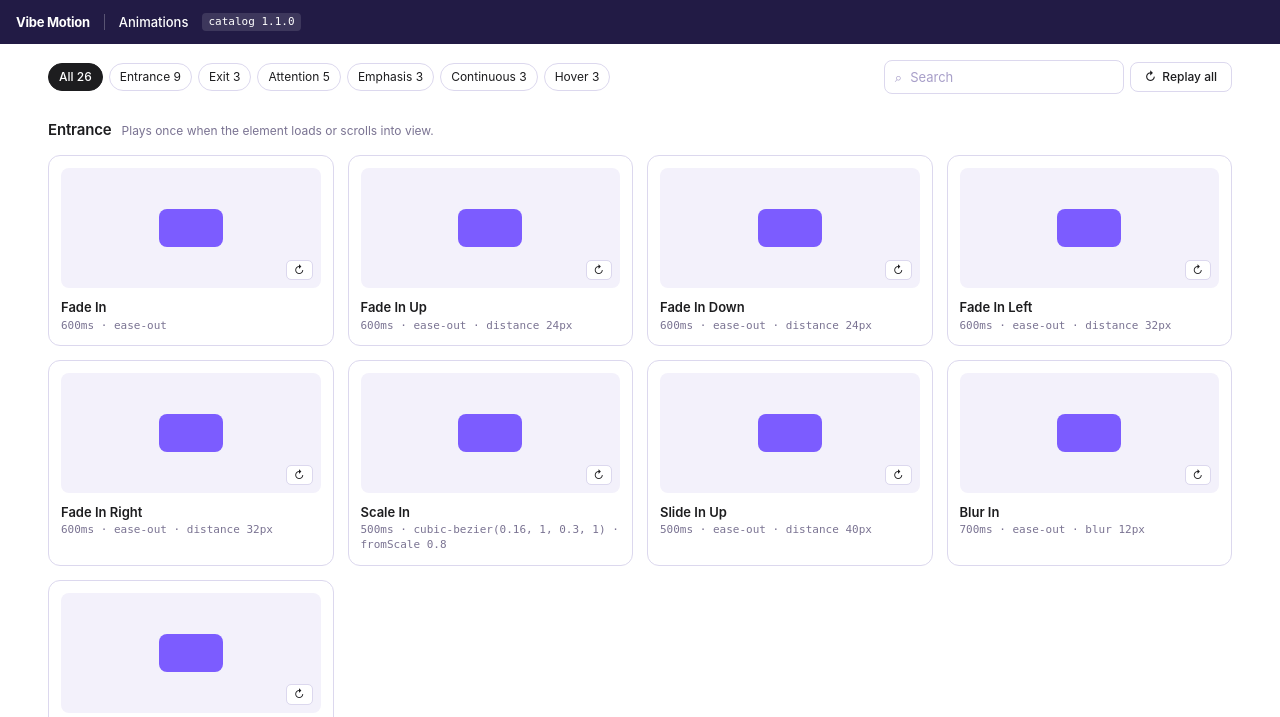
Test: HelpScreen › filters by name as you search, and the chips re-count what is left
Type "fade" into the search field named "Search animations" at x=1011, y=77, box [910,68,1113,86]
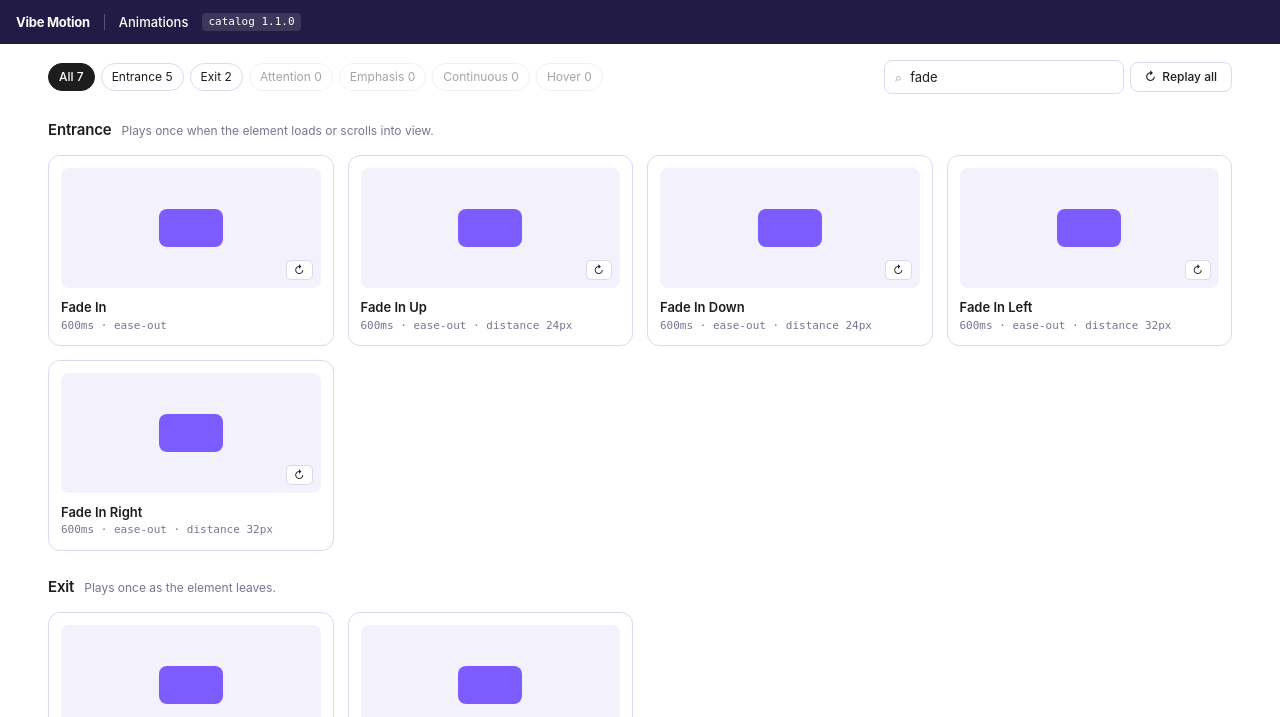
Result: the number of list items with test id "catalog-card" is 7
Result: the button "All 7" is shown at [48,63,95,90]
Result: the button "Entrance 5" is shown at [101,63,184,90]
